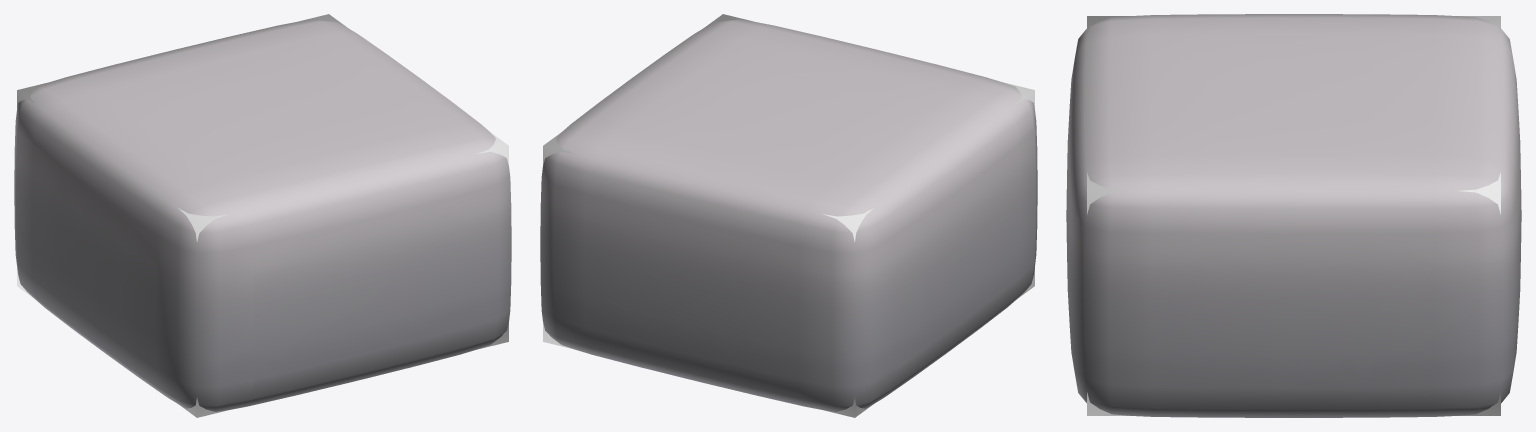
Rendered from SlabNormal_001.glb.
The picture shows the model from 3 angles, left to right: view 1: azimuth 30°, elevation 25°; view 2: azimuth 150°, elevation 25°; view 3: azimuth 270°, elevation 25°; orthographic projection. The views are drawn at different scales.
Visible parts, largest first — view 1: SlabNormal.001, colision-colonly.020; view 2: SlabNormal.001, colision-colonly.020; view 3: SlabNormal.001, colision-colonly.020.
Part boxes in pixels (box(x1,y1,x2,y2)): SlabNormal.001: box(14, 19, 511, 411); colision-colonly.020: box(17, 14, 508, 417); SlabNormal.001: box(540, 19, 1037, 411); colision-colonly.020: box(543, 14, 1034, 417); SlabNormal.001: box(1066, 14, 1521, 417); colision-colonly.020: box(1087, 16, 1500, 415).
Bounding box in the file's own units: 0.9919 × 0.5951 × 0.9919.
Materials: 1 (1 with a texture image).
